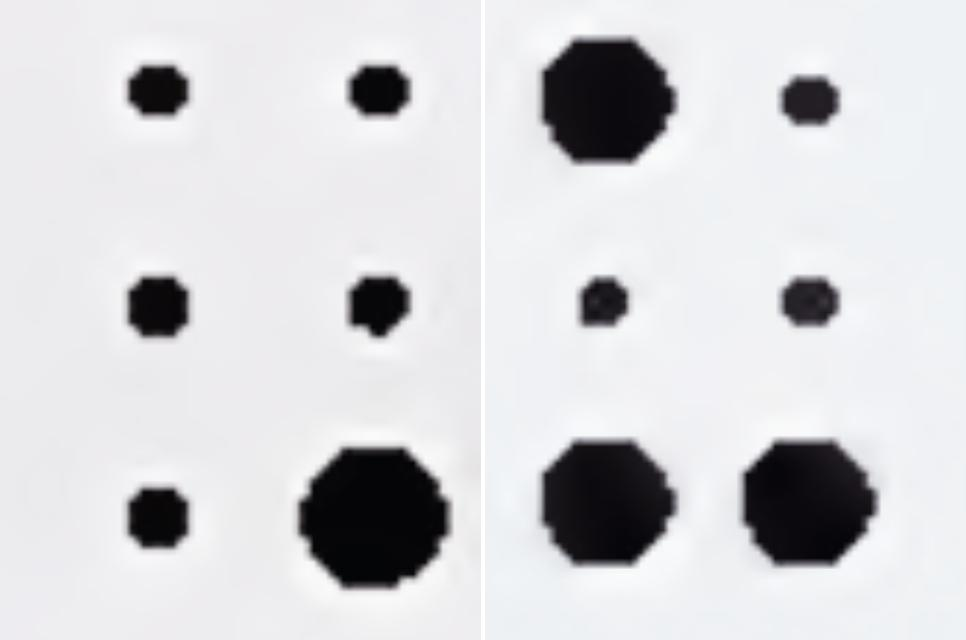U: (537, 33, 877, 571)
capital: (120, 62, 450, 586)
